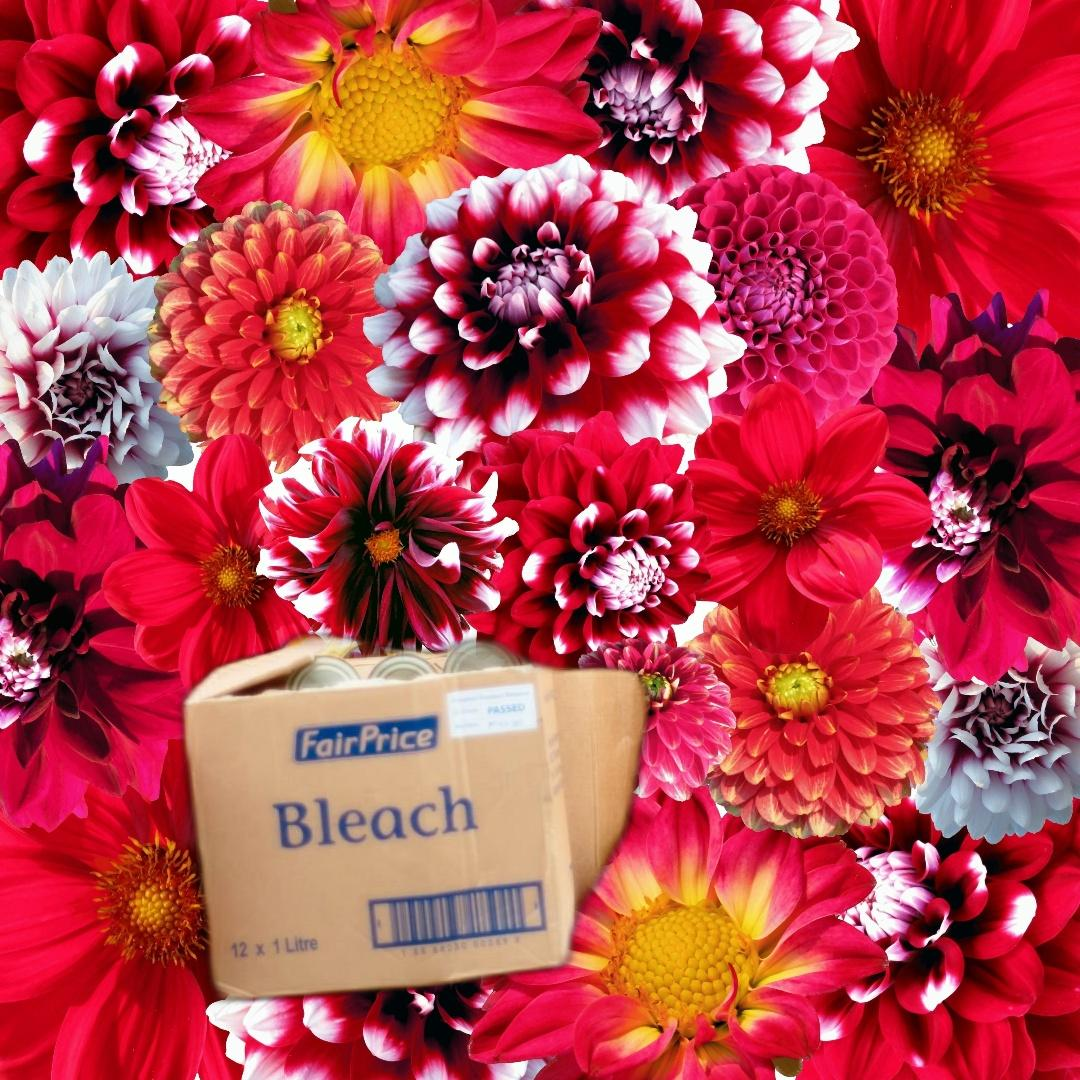trashbox-cardboard: (163, 620, 666, 1014)
